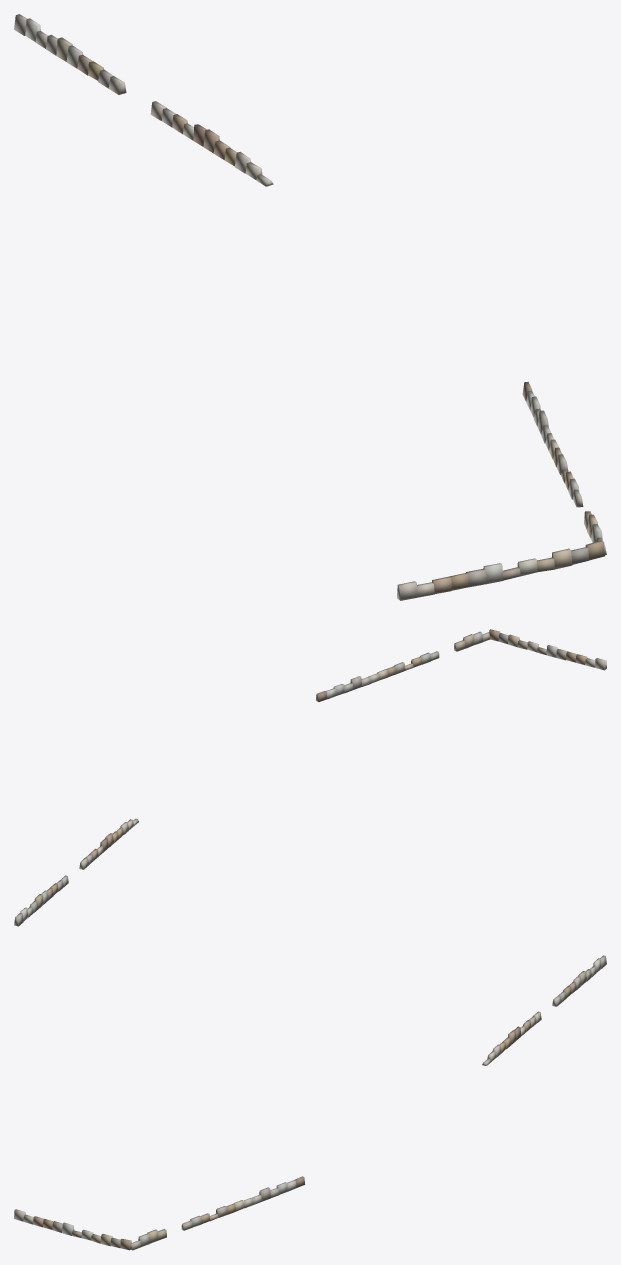
The model's file is farm_18_16_far.glb.
3 renders of one model, top to bottom at view 1: azimuth 30°, elevation 25°; view 2: azimuth 150°, elevation 25°; view 3: azimuth 330°, elevation 25°, orthographic. The views are drawn at different scales.
Visible parts, largest first — view 1: geometry_0; view 2: geometry_0; view 3: geometry_0.
Boxes of the visible parts, bbox=[...] form: geometry_0: bbox=[14, 14, 606, 600]; geometry_0: bbox=[14, 629, 606, 926]; geometry_0: bbox=[14, 955, 606, 1250].
Size of the model in its own units: 31.21 by 1.72 by 113.
